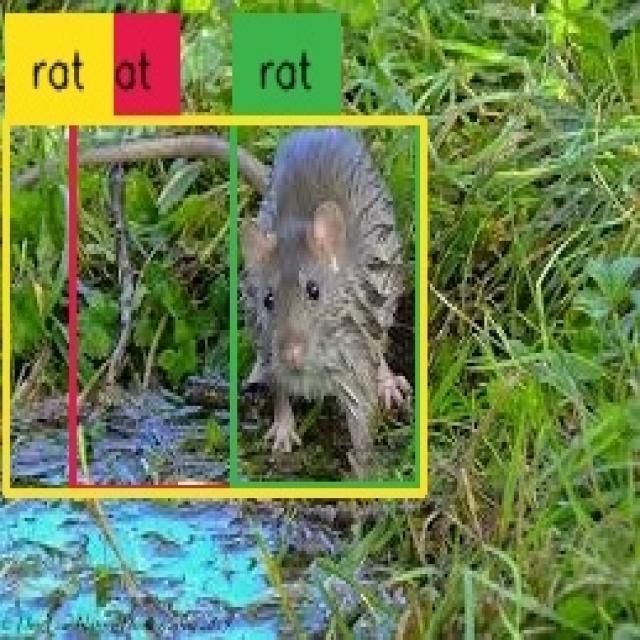rat: (5, 120, 422, 493), (73, 122, 421, 492), (235, 122, 420, 488)
